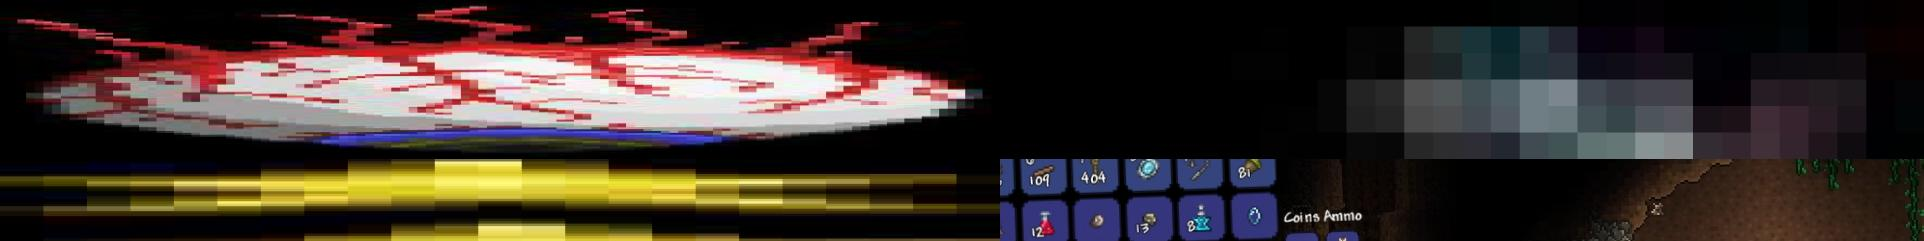eyeC: (0, 0, 1000, 159)
pickaxe: (1000, 0, 1924, 159)
potion: (1036, 207, 1053, 240)
